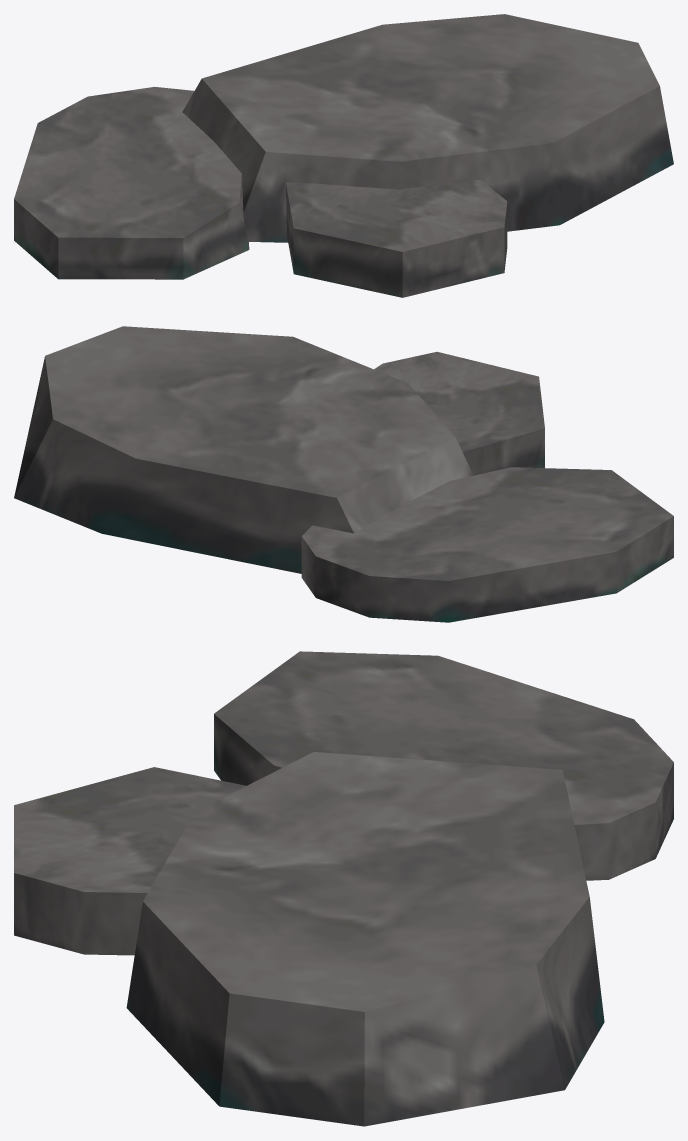
File: sn_jjc_suishi01.FBX
3 renders of one model, top to bottom at view 1: azimuth 30°, elevation 25°; view 2: azimuth 150°, elevation 25°; view 3: azimuth 270°, elevation 25°, orthographic. The views are drawn at different scales.
Visible parts, largest first — view 1: sn_jjc_suishi01; view 2: sn_jjc_suishi01; view 3: sn_jjc_suishi01.
Part boxes in pixels (x1,y1,x2,y2): sn_jjc_suishi01: (14, 14, 673, 297); sn_jjc_suishi01: (14, 326, 673, 622); sn_jjc_suishi01: (14, 651, 673, 1126).
Bounding box in the file's own units: 457 × 311 × 55.36.
